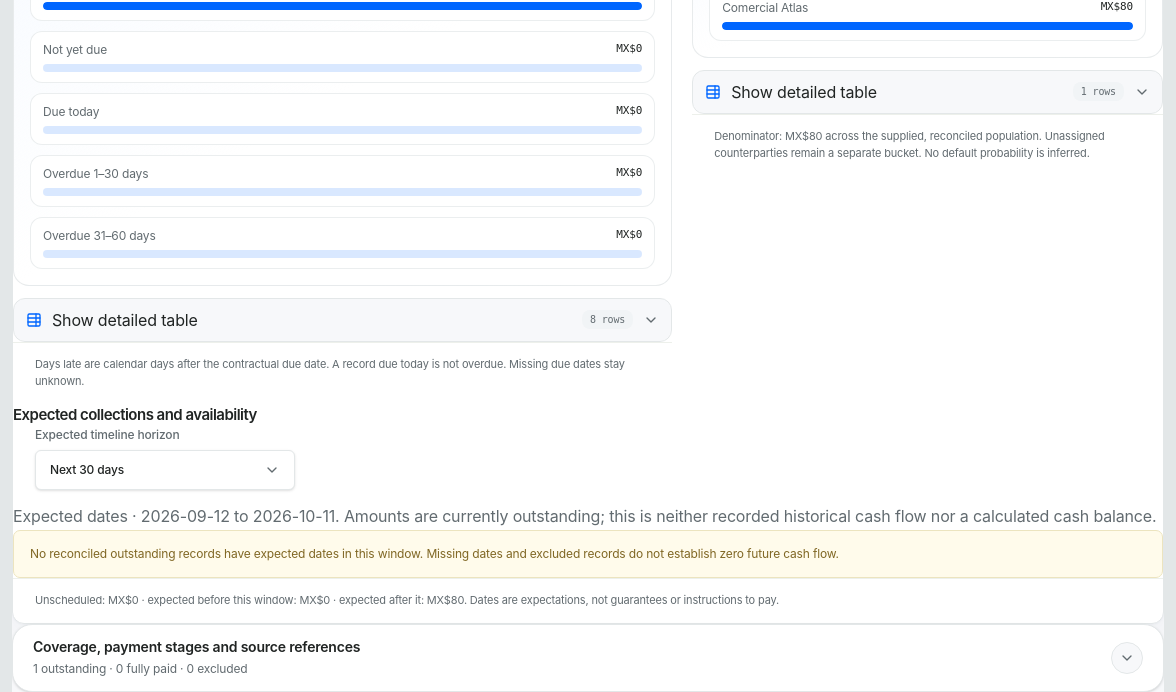
Test case: forward-window controls change exact expected dates without changing current balances
The width and height of the screenshot is (1176, 692).
(page scrolled)
Expected: the text "2026-09-12 to 2026-10-11" is shown, [13,504,1163,530]
Expected: the element "2026-10-20" is not shown
Replace the text in the dropdown named "Expected timeline horizon" with "60": (65, 470) [35,450,295,490]
(page scrolled)
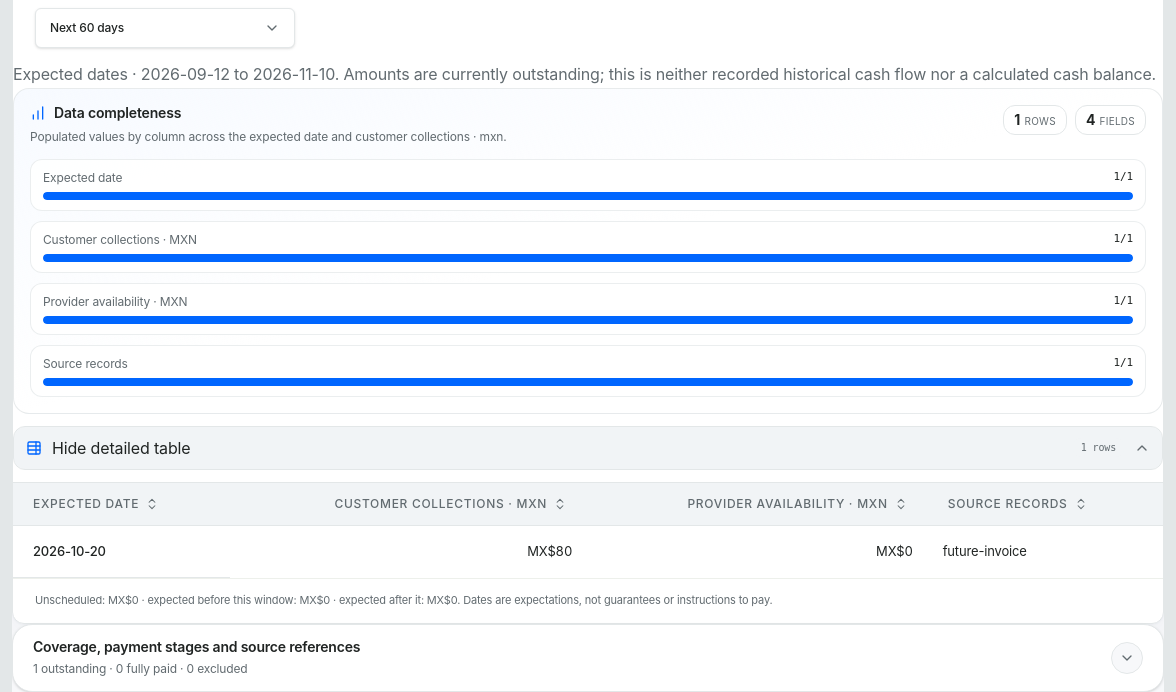
Expected: the text "2026-09-12 to 2026-11-10" is shown, [13,62,1163,88]
Expected: the column heading "2026-10-20" is shown, [13,525,230,578]
Click the button "Coverage, payment stages and source references": (197, 646) [13,625,1163,691]
(page scrolled)
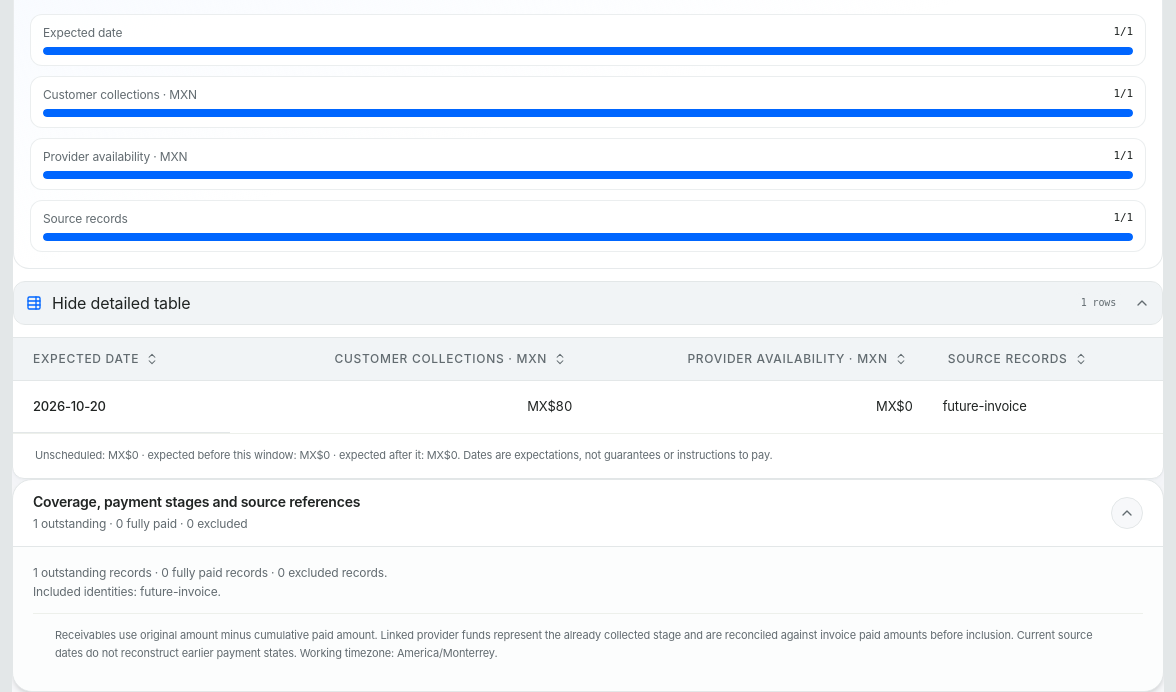
Expected: the button "Coverage, payment stages and source references" is expanded, [13,480,1163,546]
Expected: the text "Included identities: future-invoice." is shown, [33,584,221,599]
